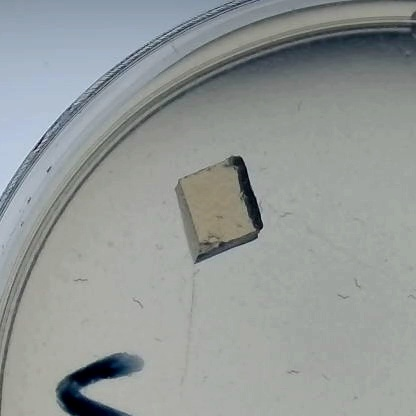worm: (331, 288, 356, 304), (277, 206, 297, 224), (320, 374, 341, 391), (349, 277, 372, 292), (351, 214, 370, 232), (279, 365, 302, 379), (125, 295, 145, 311), (289, 100, 309, 113), (69, 274, 91, 284)
